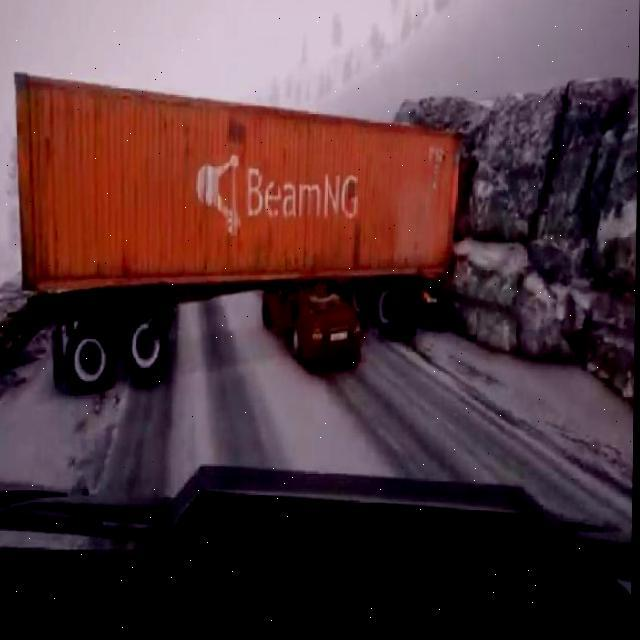multiple_accident: (0, 64, 581, 399)
